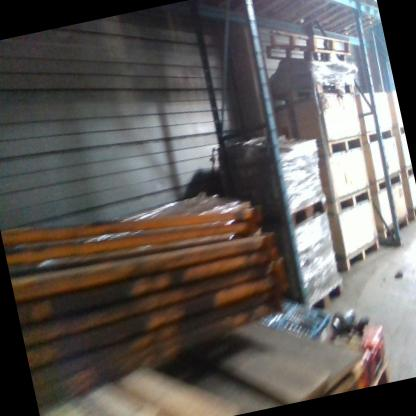pallet: (266, 12, 352, 71), (263, 26, 347, 79), (286, 0, 380, 38), (270, 75, 354, 111), (271, 0, 358, 30), (333, 235, 384, 273), (317, 129, 367, 166), (302, 276, 347, 313), (284, 192, 330, 228), (323, 184, 373, 216), (372, 209, 412, 242), (367, 169, 404, 193), (362, 121, 397, 144), (400, 162, 414, 180), (406, 204, 416, 222), (396, 120, 404, 138)
